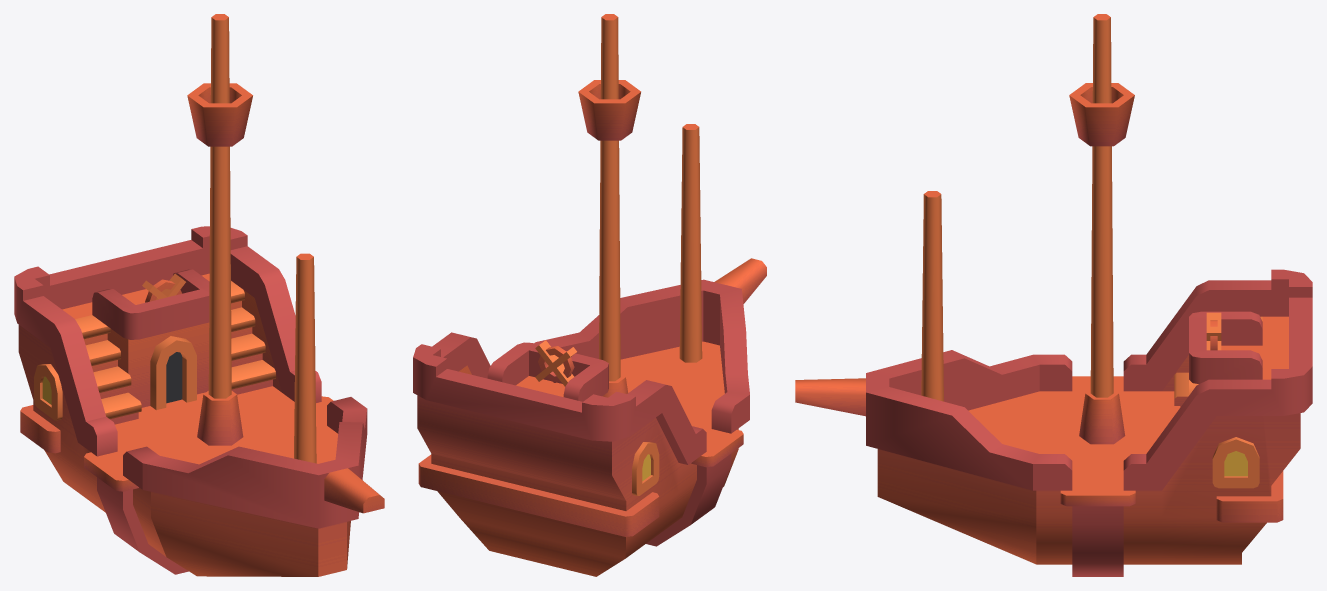
File: ship_small_hull_red.glb
The picture shows the model from 3 angles, left to right: view 1: azimuth 30°, elevation 25°; view 2: azimuth 150°, elevation 25°; view 3: azimuth 270°, elevation 25°; orthographic projection. The views are drawn at different scales.
Visible parts, largest first — view 1: ship_small_red; view 2: ship_small_red; view 3: ship_small_red.
Boxes of the visible parts, x1=… form: ship_small_red: x1=14, y1=14, x2=384, y2=576; ship_small_red: x1=413, y1=14, x2=766, y2=576; ship_small_red: x1=795, y1=14, x2=1312, y2=576.
Bounding box in the file's own units: 4.8 × 9.96 × 8.8.
Materials: 1 (1 with a texture image).
